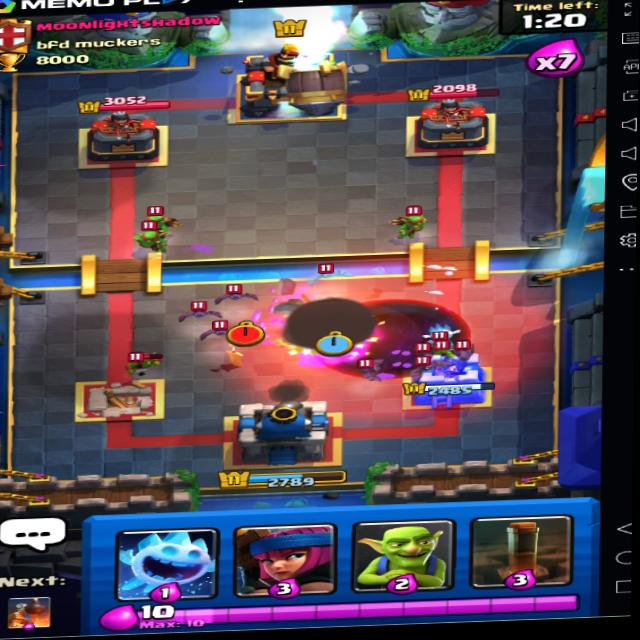bats: (199, 320, 240, 343), (452, 336, 482, 362), (218, 284, 250, 306), (184, 303, 221, 319), (358, 356, 388, 373)
goblin: (125, 343, 164, 379)
ice-spirit: (421, 319, 462, 343)
rocket: (277, 55, 358, 119)
spear-goblin: (385, 202, 433, 237), (143, 204, 181, 237), (132, 222, 167, 253)
void: (313, 292, 482, 379)
